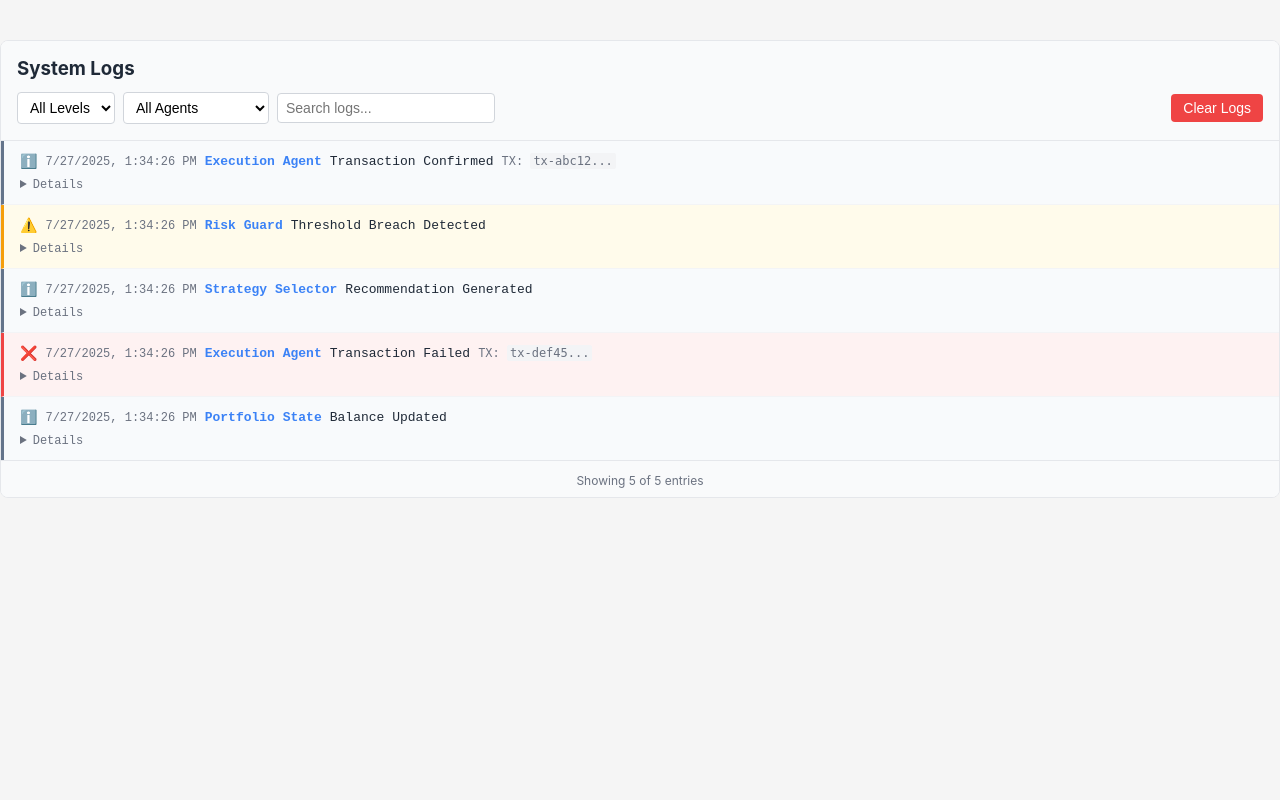
it: LogDisplay › shows log details in expandable sections
The image size is (1280, 800).
Click to expand details
Click the heading "Details" below "Transaction Confirmed": click(58, 185) [33,178,83,192]
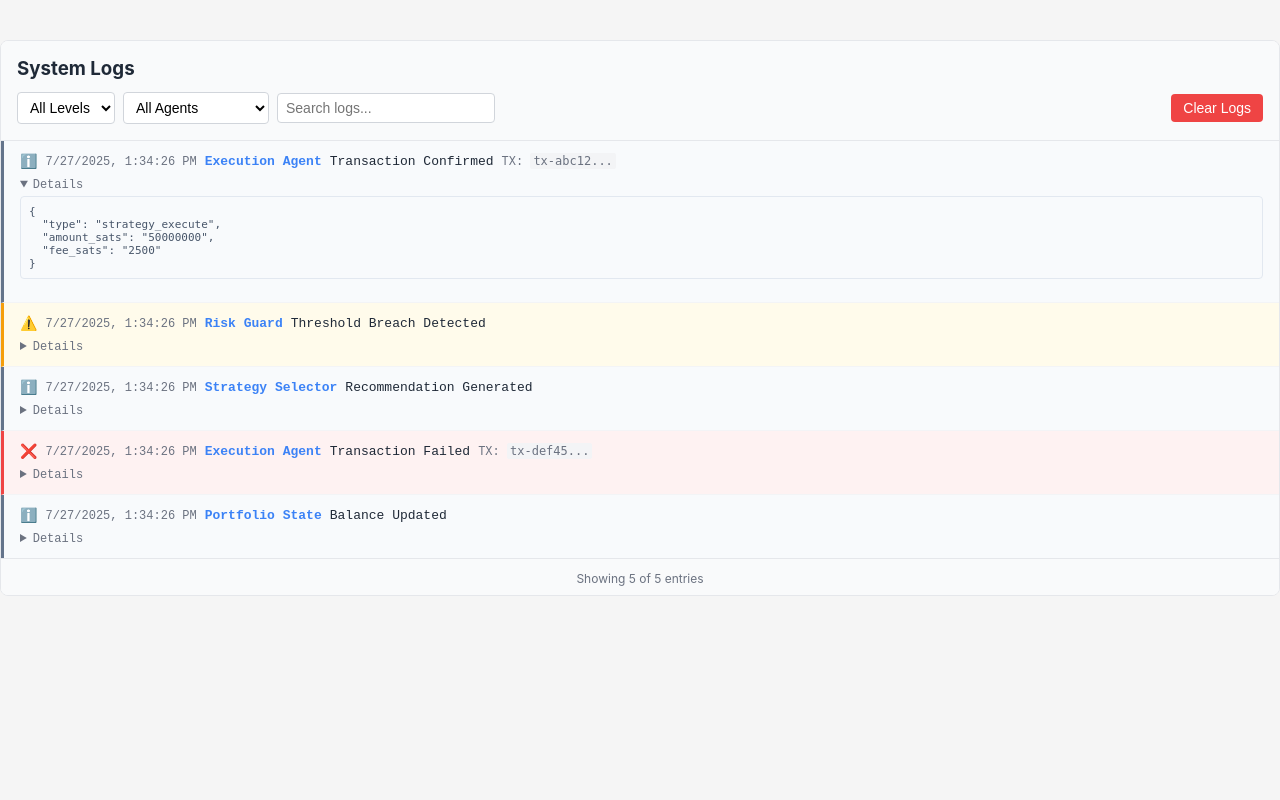
Expected: the text "\"type\": \"strategy_execute\"" is shown, [29,205,221,270]
